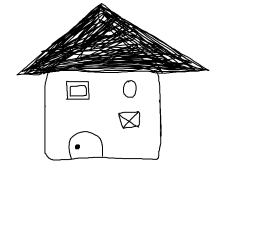closed_window: (114, 109, 144, 130)
door: (64, 126, 106, 165)
open_window: (63, 77, 94, 102), (119, 79, 141, 101)
shaded_roof: (14, 0, 210, 74)
wall: (40, 68, 166, 164)
